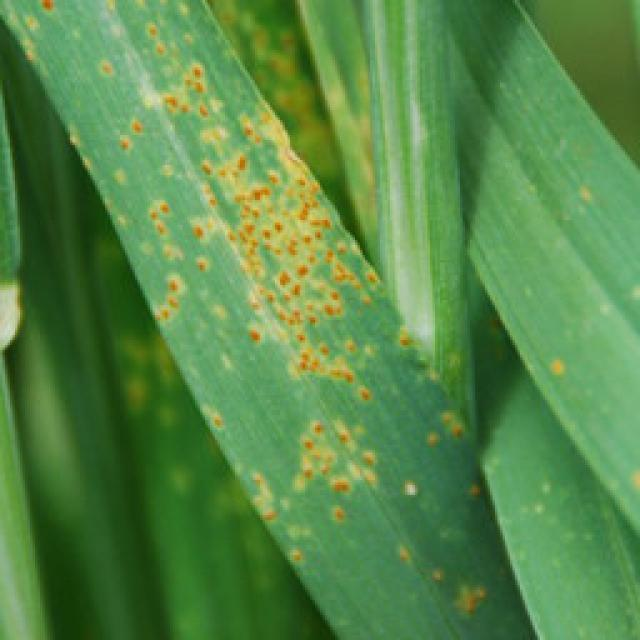Yellow Rust: (0, 0, 542, 639)
